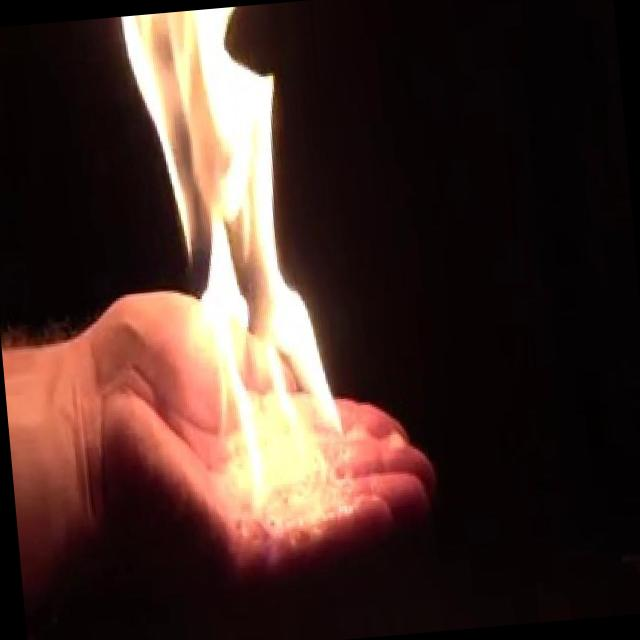Fire: (115, 0, 356, 525)
